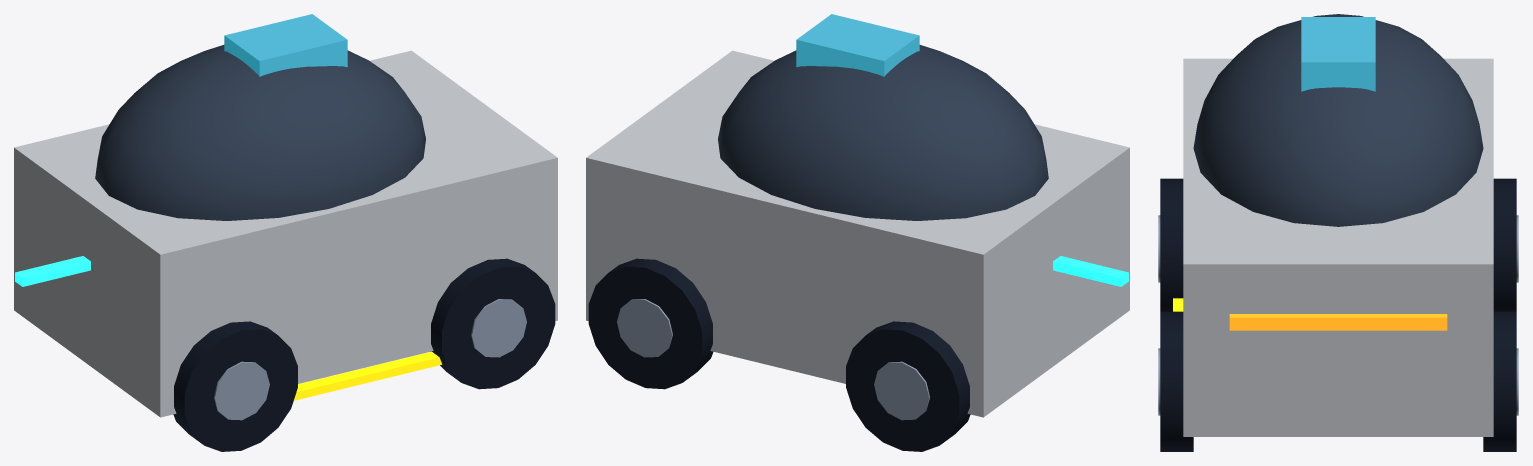
File: autonomous_pod.glb
3 views of the same model, side by side, from view 1: azimuth 30°, elevation 25°; view 2: azimuth 150°, elevation 25°; view 3: azimuth 270°, elevation 25° (orthographic). The views are drawn at different scales.
Visible parts, largest first — view 1: autonomous_pod_body, autonomous_pod_smart_glass_canopy, autonomous_pod_wheel_-0.76_0.78_tire, autonomous_pod_wheel_0.76_0.78_tire, autonomous_pod_lidar, autonomous_pod_wheel_0.76_0.78_hub, autonomous_pod_wheel_-0.76_0.78_hub, autonomous_pod_underbody, autonomous_pod_front_matrix; view 2: autonomous_pod_body, autonomous_pod_smart_glass_canopy, autonomous_pod_wheel_0.76_-0.78_tire, autonomous_pod_wheel_-0.76_-0.78_tire, autonomous_pod_lidar, autonomous_pod_wheel_0.76_-0.78_hub, autonomous_pod_wheel_-0.76_-0.78_hub, autonomous_pod_front_matrix; view 3: autonomous_pod_body, autonomous_pod_smart_glass_canopy, autonomous_pod_lidar, autonomous_pod_rear_lightbar, autonomous_pod_wheel_0.76_-0.78_tire, autonomous_pod_wheel_0.76_0.78_tire, autonomous_pod_wheel_-0.76_-0.78_tire, autonomous_pod_wheel_-0.76_0.78_tire.
Boxes of the visible parts, x1=… form: autonomous_pod_body: x1=14, y1=50, x2=557, y2=417; autonomous_pod_smart_glass_canopy: x1=95, y1=45, x2=425, y2=220; autonomous_pod_wheel_-0.76_0.78_tire: x1=173, y1=321, x2=297, y2=451; autonomous_pod_wheel_0.76_0.78_tire: x1=430, y1=258, x2=555, y2=389; autonomous_pod_lidar: x1=224, y1=14, x2=347, y2=76; autonomous_pod_wheel_0.76_0.78_hub: x1=471, y1=299, x2=526, y2=357; autonomous_pod_wheel_-0.76_0.78_hub: x1=214, y1=361, x2=269, y2=420; autonomous_pod_underbody: x1=293, y1=351, x2=442, y2=400; autonomous_pod_front_matrix: x1=15, y1=256, x2=90, y2=286; autonomous_pod_body: x1=586, y1=50, x2=1129, y2=417; autonomous_pod_smart_glass_canopy: x1=718, y1=45, x2=1048, y2=220; autonomous_pod_wheel_0.76_-0.78_tire: x1=588, y1=258, x2=713, y2=389; autonomous_pod_wheel_-0.76_-0.78_tire: x1=846, y1=321, x2=970, y2=451; autonomous_pod_lidar: x1=796, y1=14, x2=919, y2=76; autonomous_pod_wheel_0.76_-0.78_hub: x1=617, y1=299, x2=672, y2=357; autonomous_pod_wheel_-0.76_-0.78_hub: x1=874, y1=361, x2=929, y2=420; autonomous_pod_front_matrix: x1=1053, y1=256, x2=1128, y2=286; autonomous_pod_body: x1=1183, y1=58, x2=1493, y2=436; autonomous_pod_smart_glass_canopy: x1=1193, y1=14, x2=1483, y2=226; autonomous_pod_lidar: x1=1301, y1=17, x2=1375, y2=91; autonomous_pod_rear_lightbar: x1=1229, y1=314, x2=1447, y2=330; autonomous_pod_wheel_0.76_-0.78_tire: x1=1483, y1=311, x2=1516, y2=451; autonomous_pod_wheel_0.76_0.78_tire: x1=1160, y1=311, x2=1193, y2=451; autonomous_pod_wheel_-0.76_-0.78_tire: x1=1493, y1=178, x2=1516, y2=311; autonomous_pod_wheel_-0.76_0.78_tire: x1=1160, y1=178, x2=1183, y2=311.
Size of the model in its own units: 2.79 by 1.81 by 1.74.
